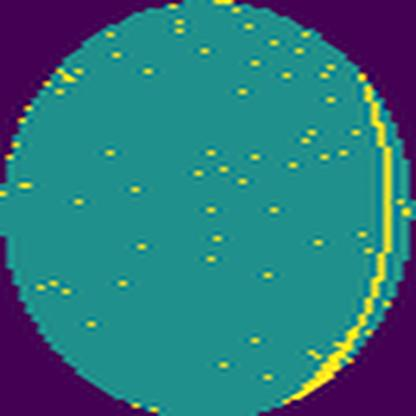Scratch: (280, 79, 398, 408)
